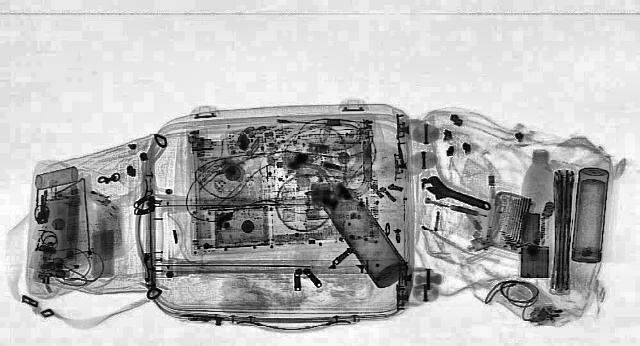Wrench: (410, 175, 504, 215)
